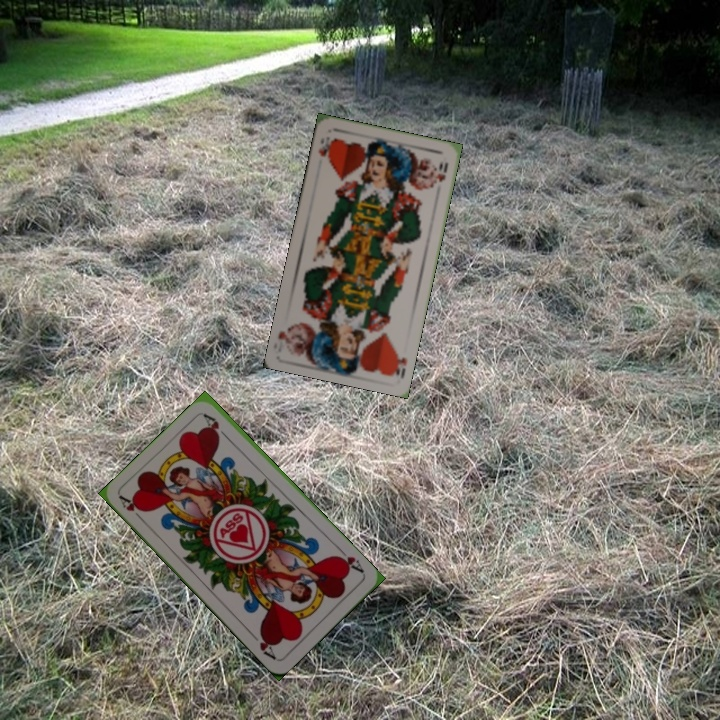HA: (332, 544, 367, 576), (116, 492, 148, 525)
HO: (391, 346, 409, 381), (315, 132, 336, 161)
